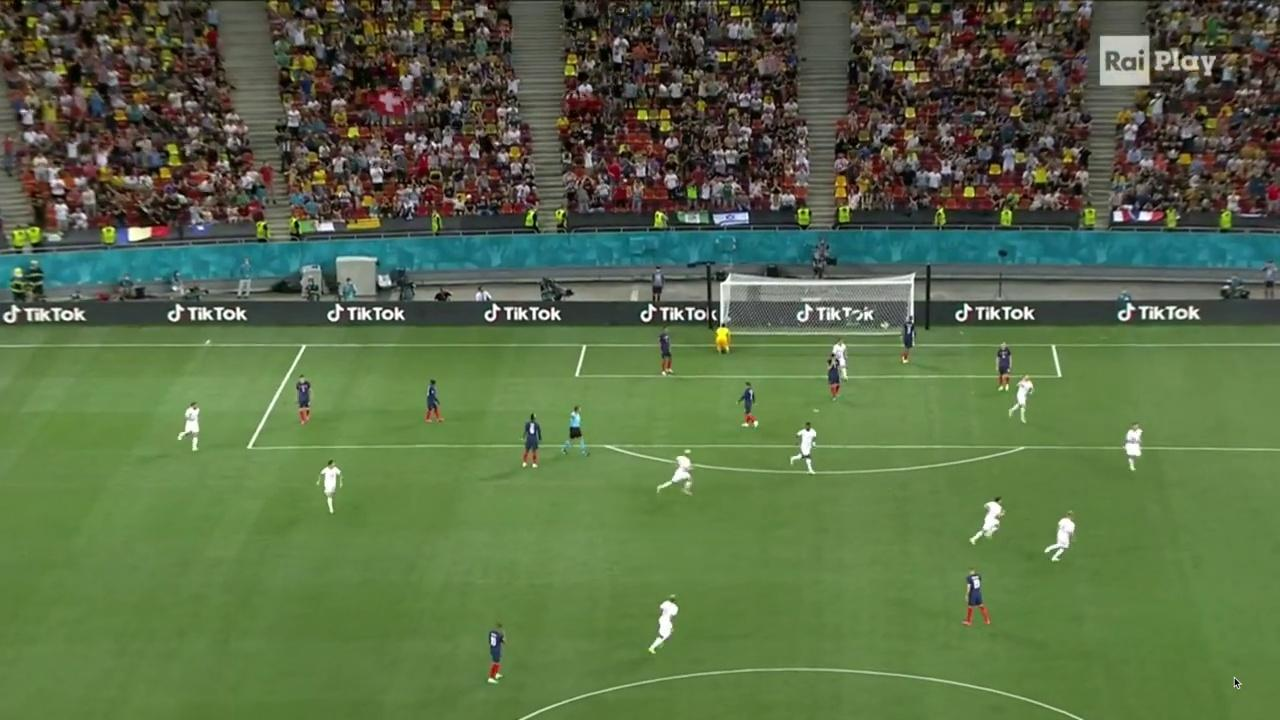goalkeeper: (714, 322, 732, 356)
player: (647, 593, 681, 655), (968, 495, 1007, 547), (656, 448, 696, 498), (960, 567, 992, 628), (1043, 509, 1077, 564), (314, 458, 344, 514), (788, 421, 817, 476), (1008, 373, 1035, 425), (486, 621, 508, 684), (519, 413, 542, 471), (177, 401, 202, 453), (735, 381, 760, 431), (1123, 422, 1145, 474), (656, 325, 675, 378), (295, 374, 314, 426), (424, 378, 445, 425), (995, 341, 1013, 392), (825, 353, 843, 402), (831, 337, 850, 383), (900, 315, 917, 365)
referee: (559, 405, 590, 458)
